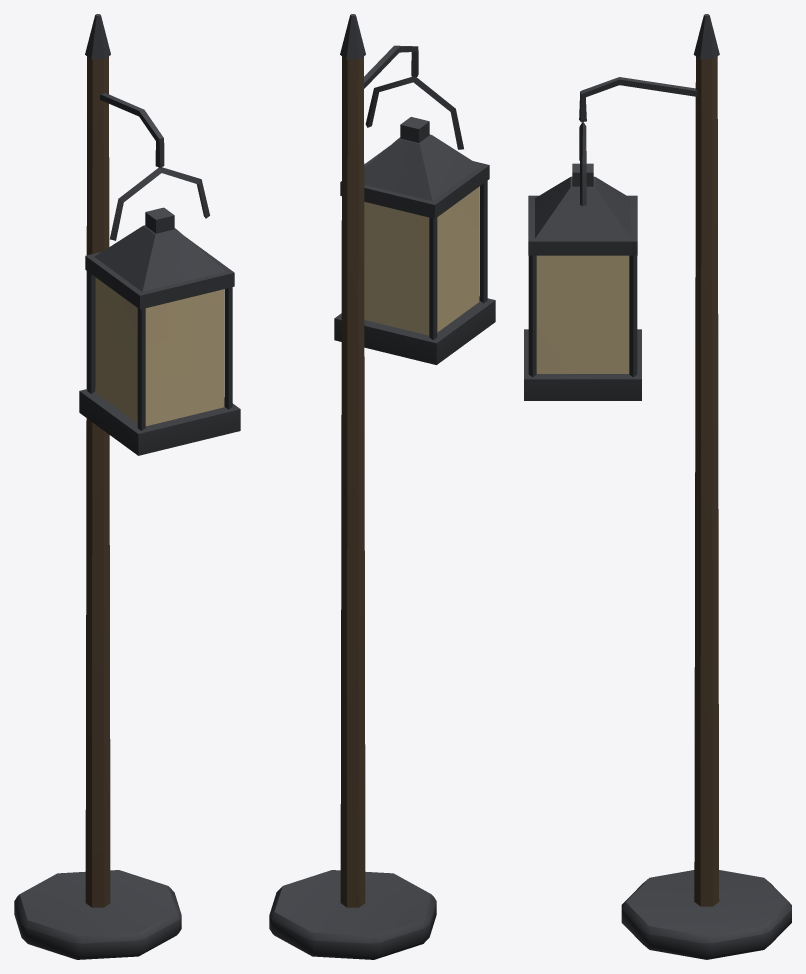
The model's file is ph_prop_watch_lantern.glb.
3 renders of one model, left to right at view 1: azimuth 30°, elevation 25°; view 2: azimuth 150°, elevation 25°; view 3: azimuth 270°, elevation 25°, orthographic.
Parts seen in each view (by area): view 1: ph_prop_watch_lantern; view 2: ph_prop_watch_lantern; view 3: ph_prop_watch_lantern.
Part boxes in pixels (box(x1,y1,x2,y2)): ph_prop_watch_lantern: box(14, 14, 240, 959); ph_prop_watch_lantern: box(269, 14, 495, 959); ph_prop_watch_lantern: box(524, 14, 791, 959).
Size of the model in its own units: 0.2339 by 1.38 by 0.3679.
